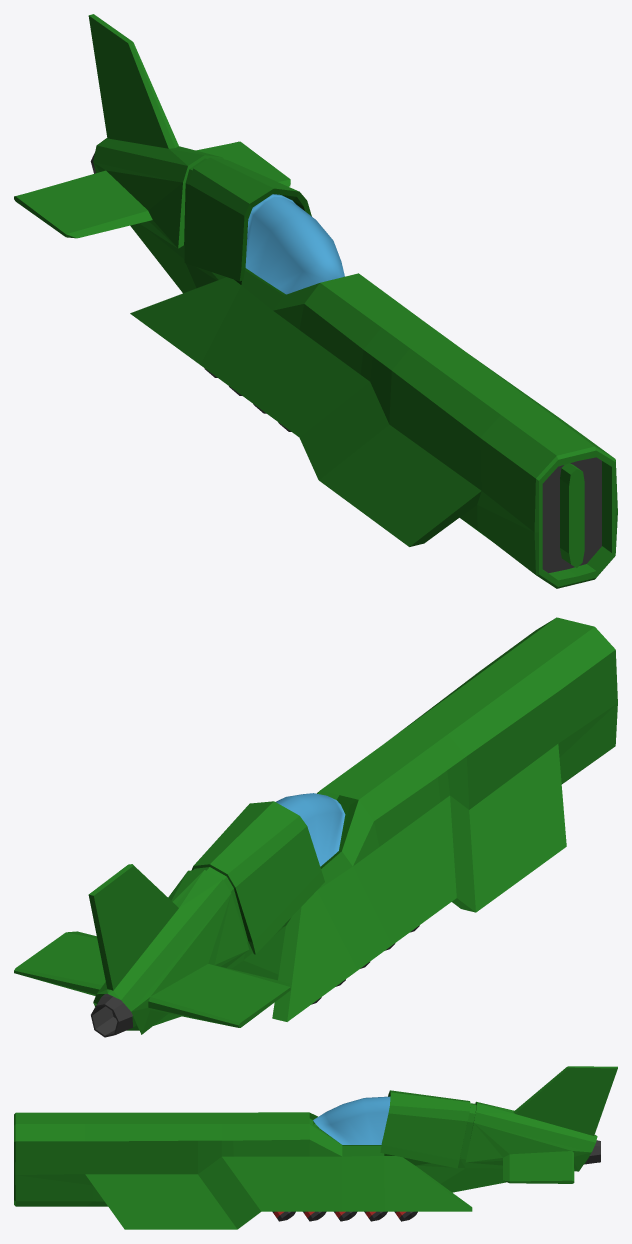
The model's file is ship1.fbx.
The picture shows the model from 3 angles, top to bottom: view 1: azimuth 30°, elevation 25°; view 2: azimuth 150°, elevation 25°; view 3: azimuth 270°, elevation 25°; orthographic projection. The views are drawn at different scales.
Parts seen in each view (by area): view 1: Spitfire; view 2: Spitfire; view 3: Spitfire.
Part boxes in pixels (box(x1,y1,x2,y2)): Spitfire: box(14, 14, 617, 588); Spitfire: box(14, 617, 617, 1037); Spitfire: box(14, 1066, 617, 1229).
Size of the model in its own units: 0.0709 by 0.0689 by 0.2655.
